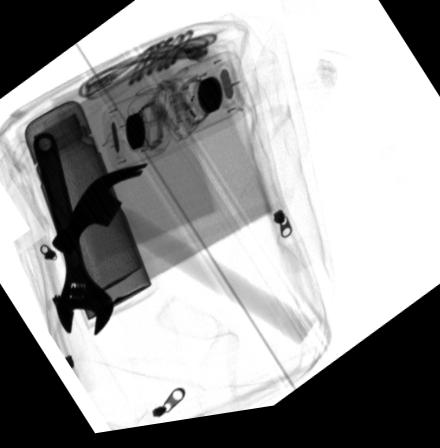Hammer: (50, 166, 316, 353)
Wrench: (31, 133, 114, 340)
